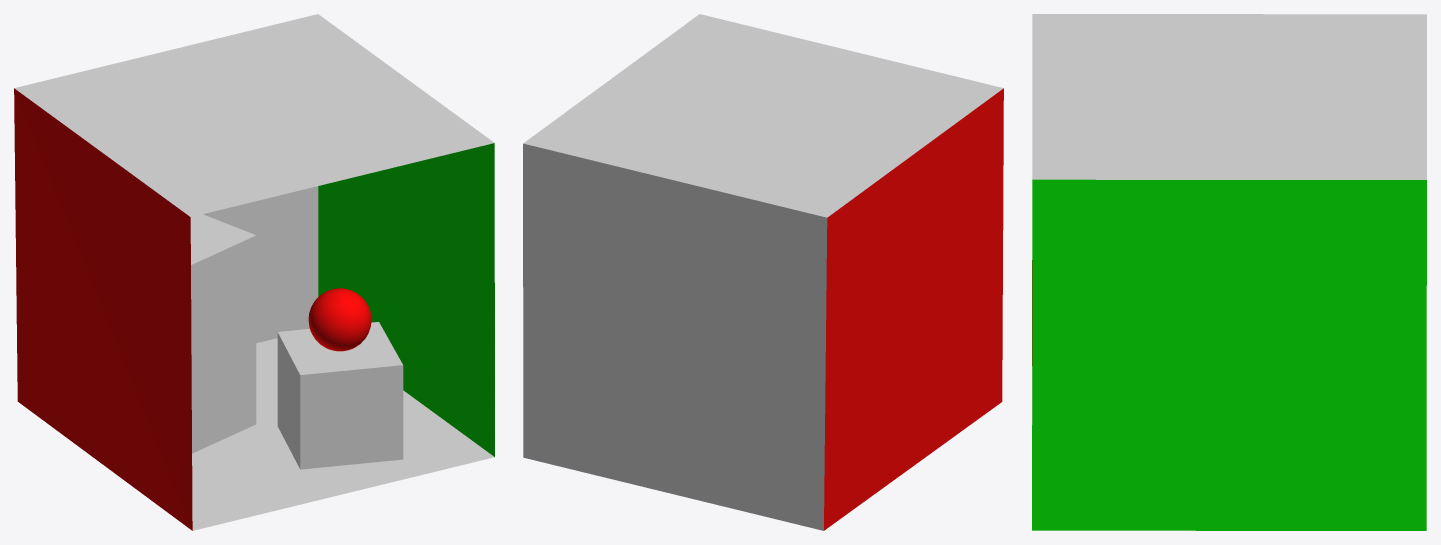
Rendered from CornellBox.gltf.
The picture shows the model from 3 angles, left to right: view 1: azimuth 30°, elevation 25°; view 2: azimuth 150°, elevation 25°; view 3: azimuth 270°, elevation 25°; orthographic projection. The views are drawn at different scales.
Parts seen in each view (by area): view 1: left_wall, ceiling, right_wall, floor, short_box, tall_box, back_wall, Sphere; view 2: back_wall, left_wall, ceiling; view 3: right_wall, ceiling.
Boxes of the visible parts, x1,y1,x2,y2 form: left_wall: (14, 88, 192, 530); ceiling: (14, 14, 494, 216); right_wall: (318, 143, 494, 456); floor: (192, 338, 494, 530); short_box: (277, 322, 403, 469); tall_box: (190, 214, 256, 453); back_wall: (203, 186, 318, 343); Sphere: (308, 288, 371, 351); back_wall: (523, 143, 827, 530); left_wall: (824, 88, 1003, 530); ceiling: (523, 14, 1003, 217); right_wall: (1032, 179, 1426, 530); ceiling: (1032, 14, 1426, 179).
Bounding box in the file's own units: 5.56 × 5.49 × 5.6.
